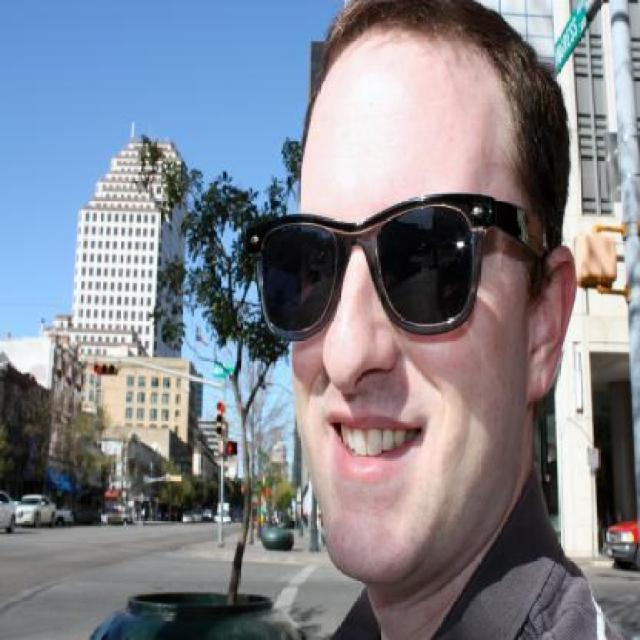face_nomask: (262, 194, 482, 500)
glasses: (245, 176, 553, 355)
head_nohelmet: (282, 0, 576, 123)
